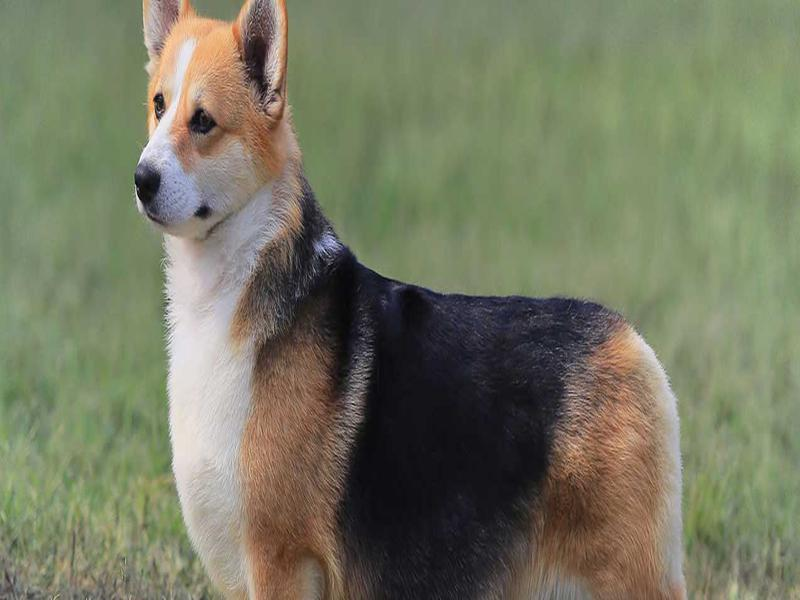corgi: (130, 4, 287, 241)
